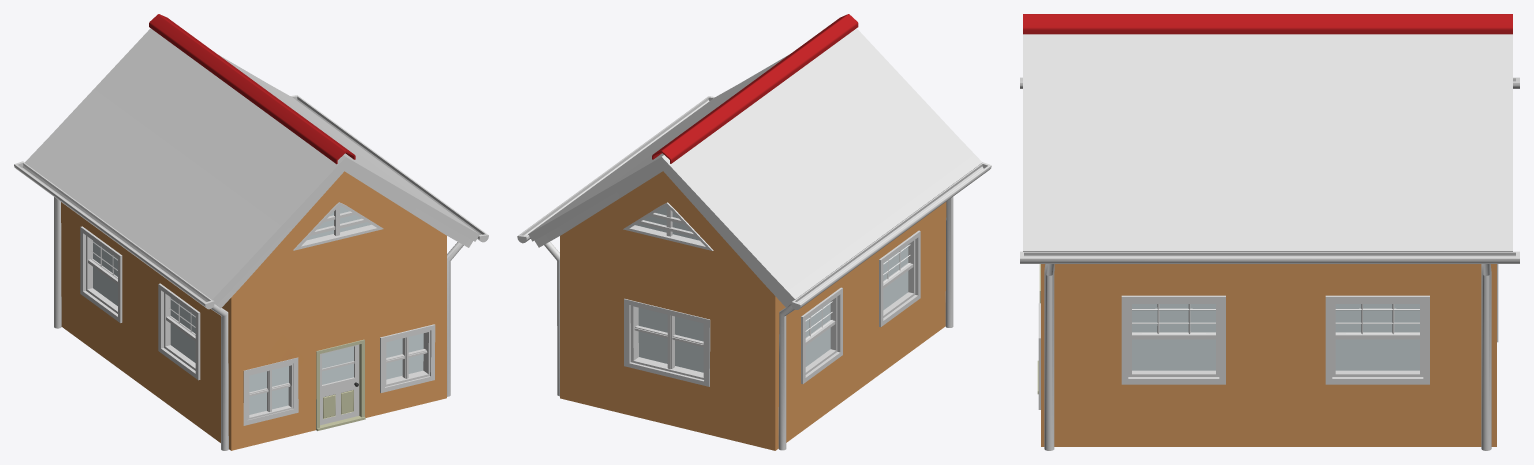
3 renders of one model, left to right at view 1: azimuth 30°, elevation 25°; view 2: azimuth 150°, elevation 25°; view 3: azimuth 270°, elevation 25°, orthographic. The views are drawn at different scales.
Parts seen in each view (by area): view 1: Cube.002; view 2: Cube.002; view 3: Cube.002.
Part boxes in pixels (left/top/right/bottom): Cube.002: left=14, top=14, right=488, bottom=450; Cube.002: left=517, top=14, right=991, bottom=450; Cube.002: left=1020, top=14, right=1519, bottom=450.
Size of the model in its own units: 16.79 by 15.75 by 19.62.
